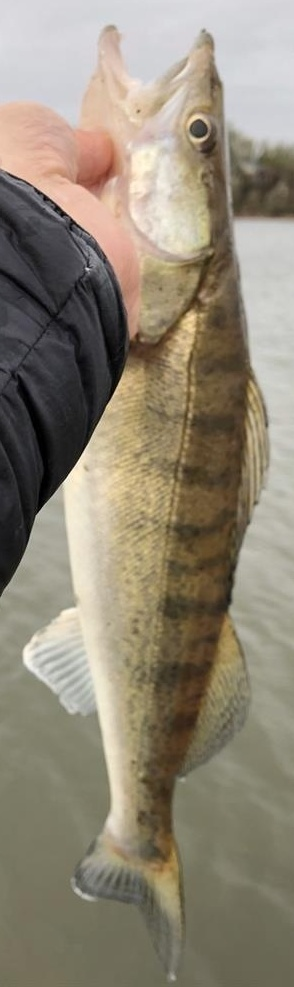Sander lucioperca: (20, 20, 274, 987)
